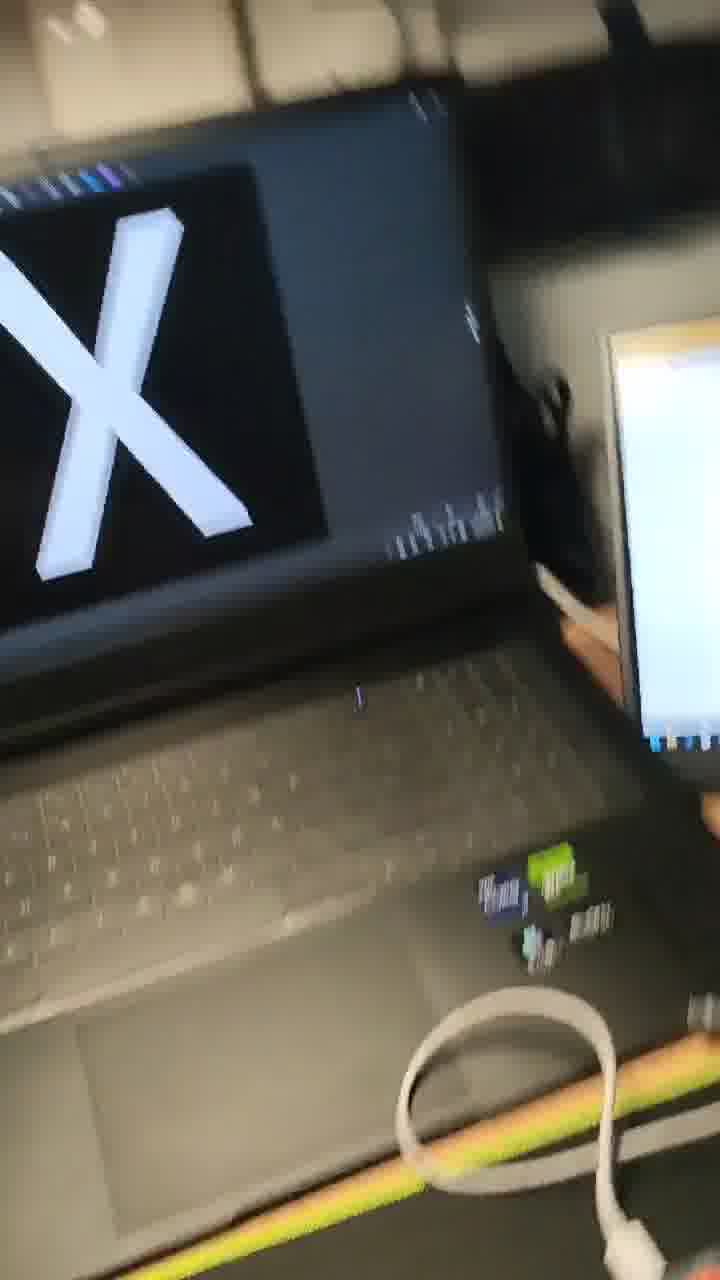X: (1, 131, 375, 628)
